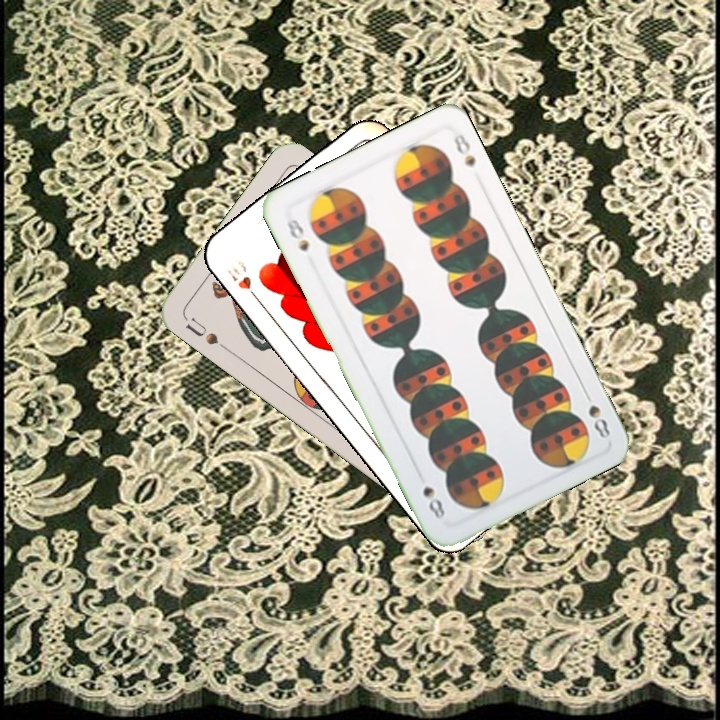H10: (222, 254, 264, 306)
S8: (579, 385, 613, 442), (283, 215, 312, 255)
SU: (181, 313, 231, 354)
